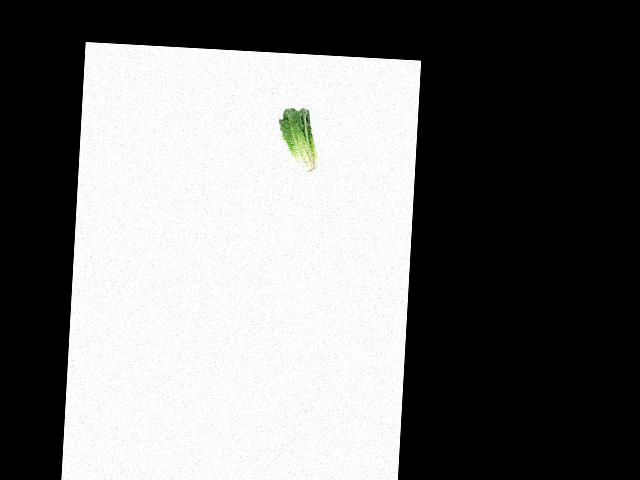lettuce: (277, 105, 321, 176)
